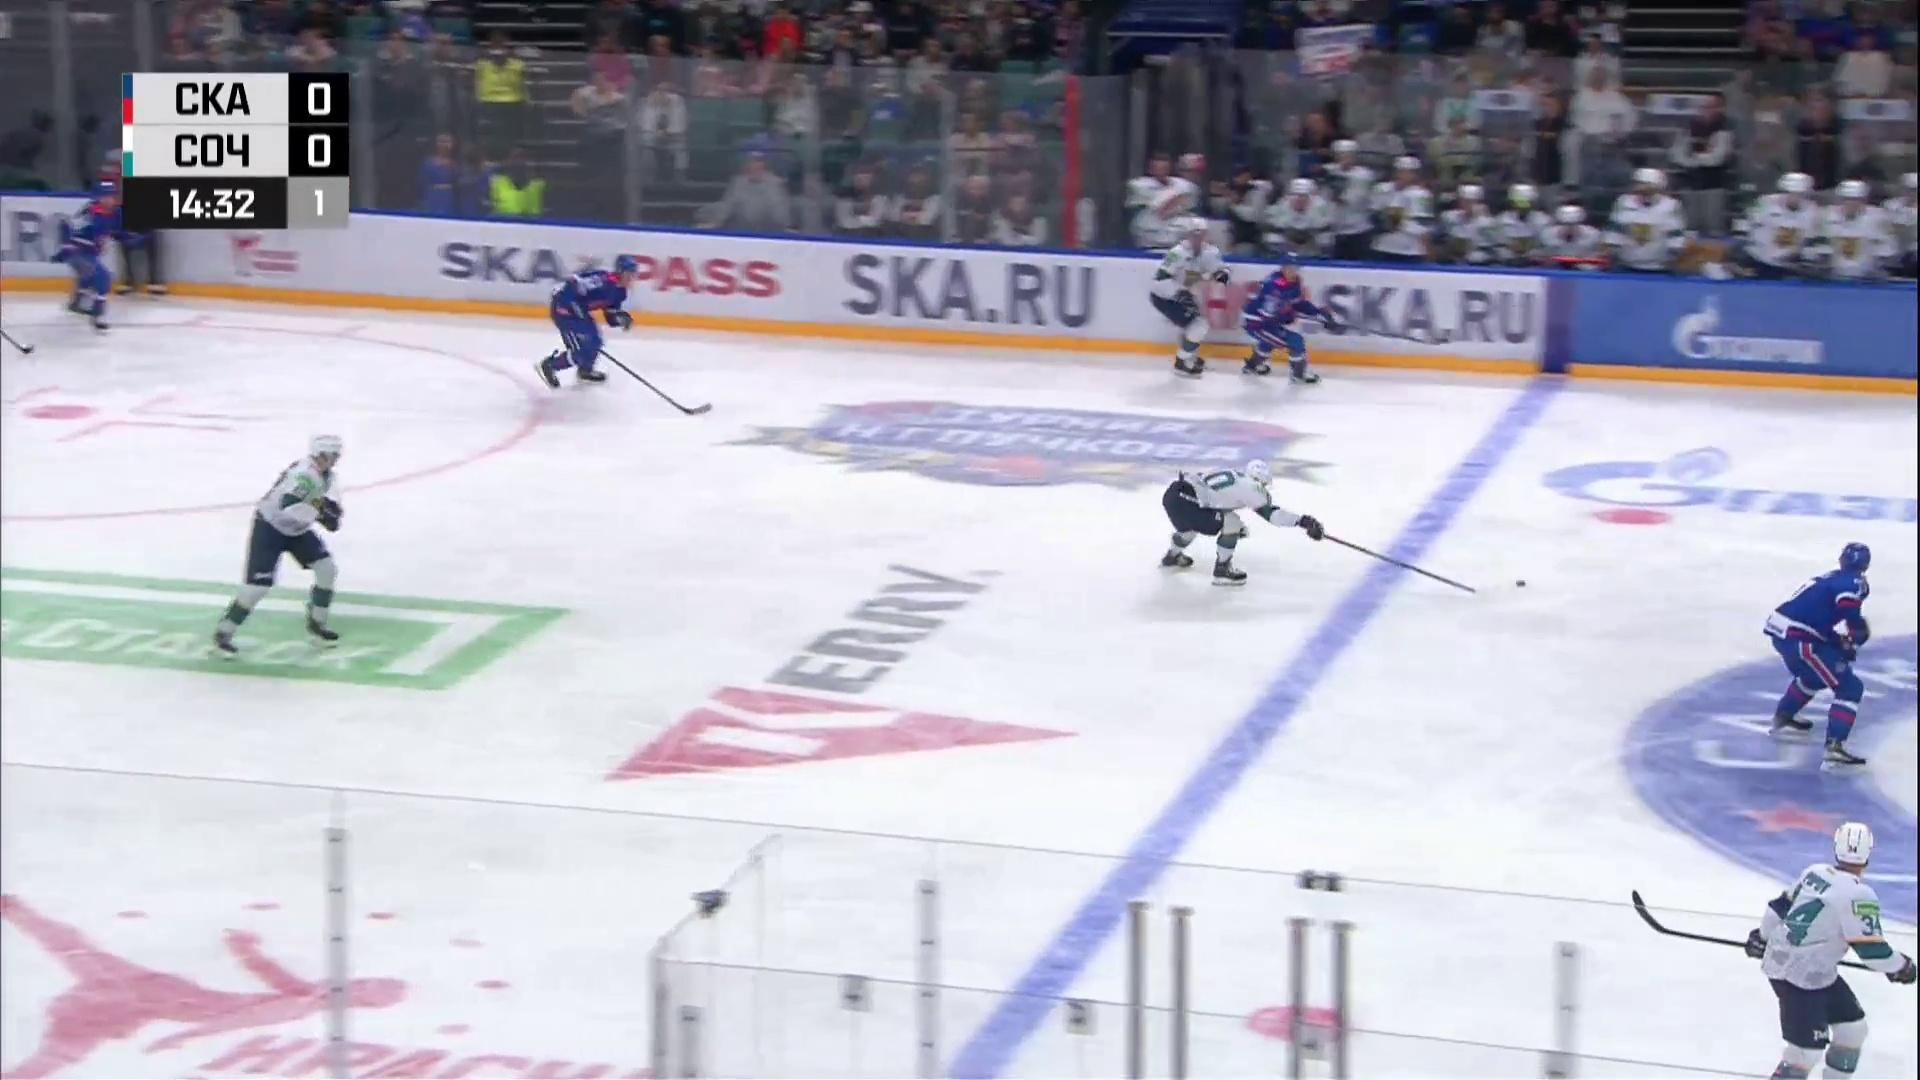ball: (1516, 580, 1527, 588)
